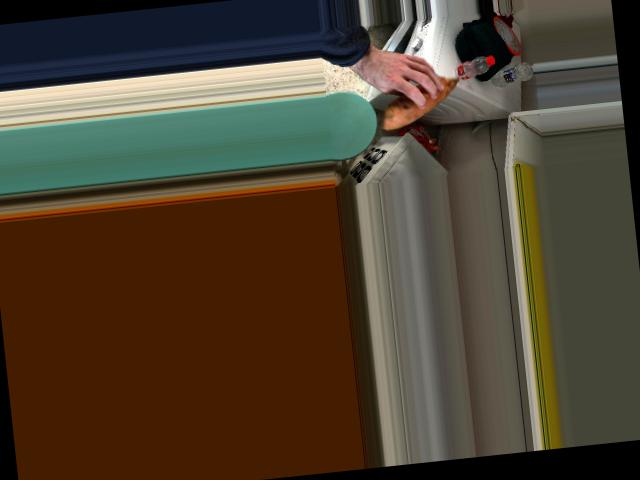sweet_potato: (389, 63, 457, 127)
